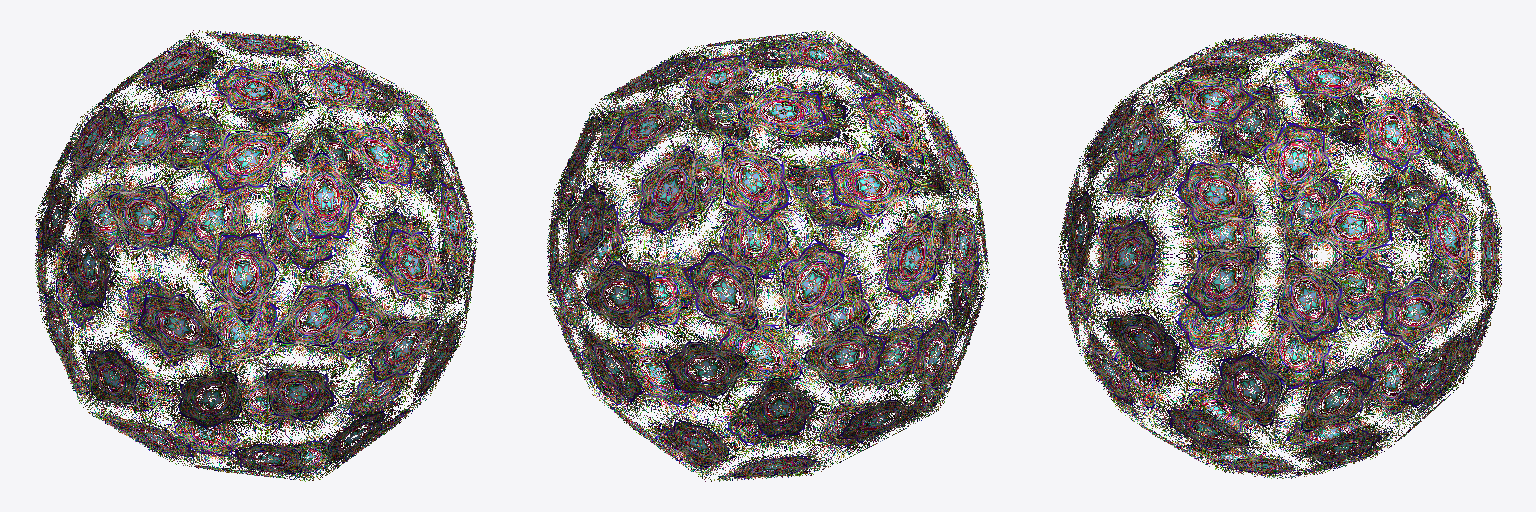
3 views of the same model, side by side, from view 1: azimuth 30°, elevation 25°; view 2: azimuth 150°, elevation 25°; view 3: azimuth 270°, elevation 25° (orthographic).
Bounding box in the file's own units: 4.19 × 4.19 × 4.19.
1 materials, 1 textured.